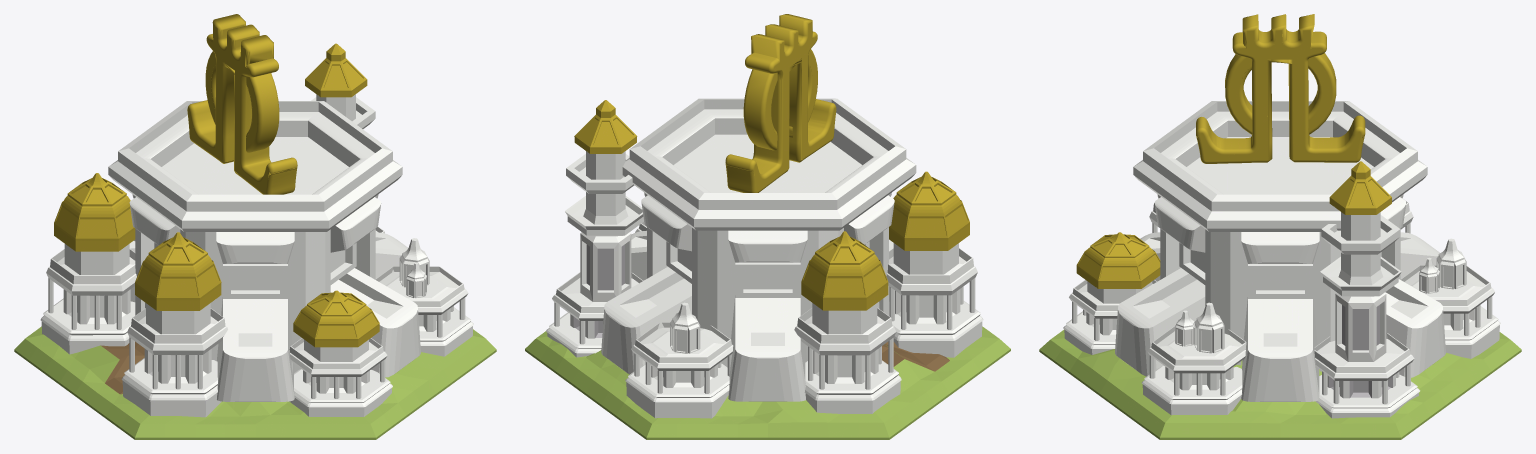
Rendered from bank.glb.
3 views of the same model, side by side, from view 1: azimuth 30°, elevation 25°; view 2: azimuth 150°, elevation 25°; view 3: azimuth 270°, elevation 25° (orthographic).
Parts seen in each view (by area): view 1: bank, lord; view 2: bank, lord; view 3: bank, lord.
Part boxes in pixels (x1=…): bank: x1=14, y1=43, x2=496, y2=439; lord: x1=187, y1=14, x2=297, y2=194; bank: x1=525, y1=98, x2=1010, y2=439; lord: x1=725, y1=14, x2=836, y2=192; bank: x1=1039, y1=101, x2=1521, y2=439; lord: x1=1196, y1=14, x2=1365, y2=163.
Size of the model in its own units: 1.73 by 1.49 by 2.
Materials: 3 (3 with a texture image).
